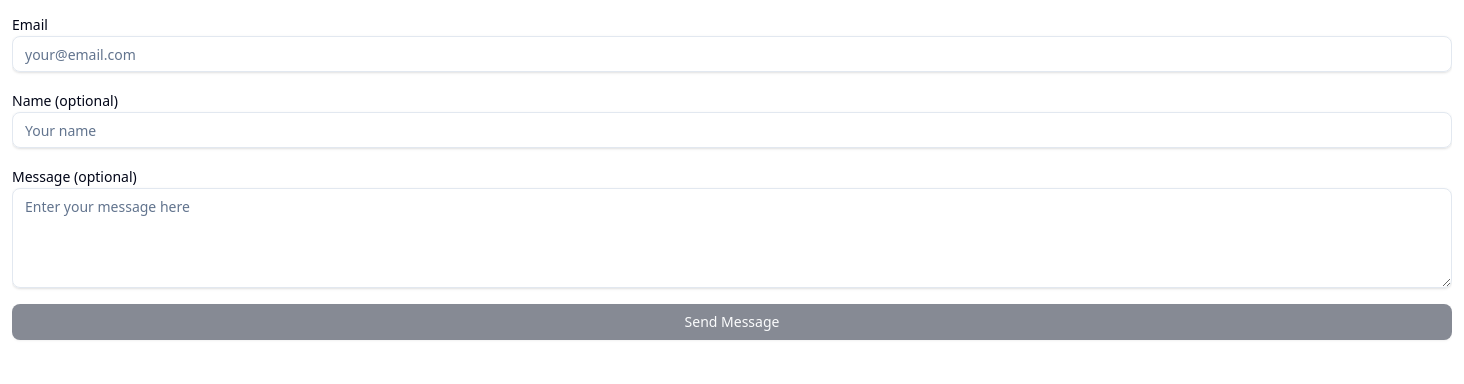
Scenario: ContactForm › cart change revalidates message without unhandled rejection
Type "test@example.com" into the field labelled "Email".
click(732, 54); type("test@example.com")  # box top-left (12, 36), bottom-right (1452, 72)
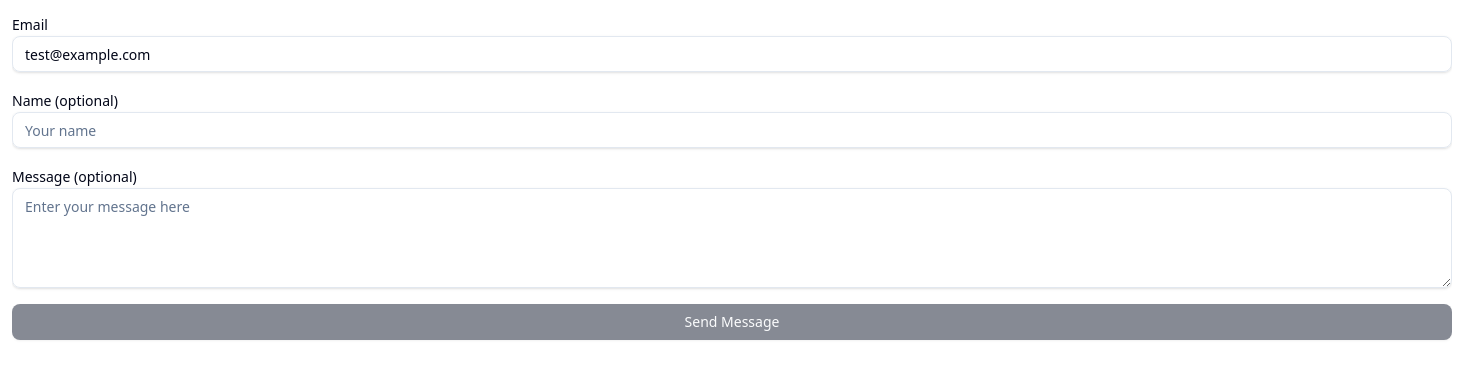
Submit the form
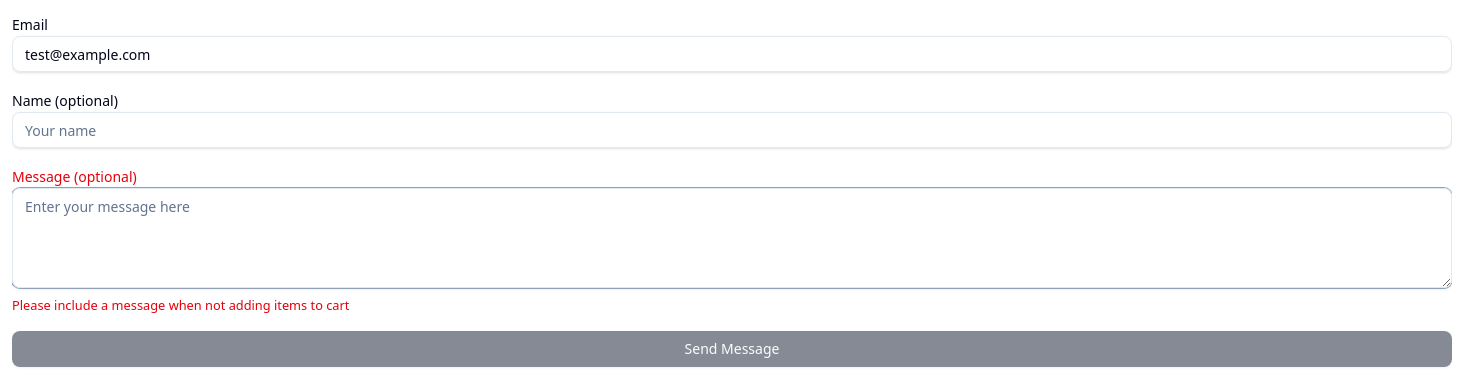
Check: the text "Please include a message when not adding items to cart" is shown, box top-left (12, 296), bottom-right (350, 314)
